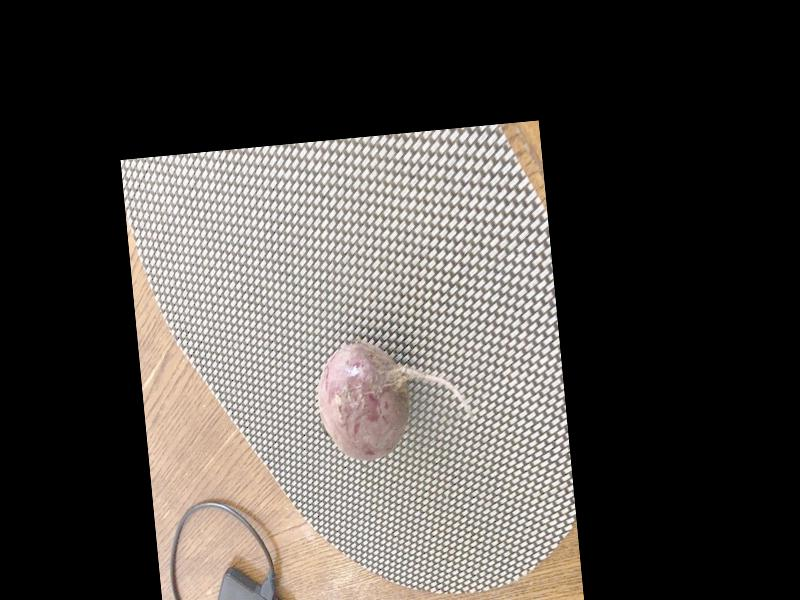Beet: (313, 332, 476, 463)
